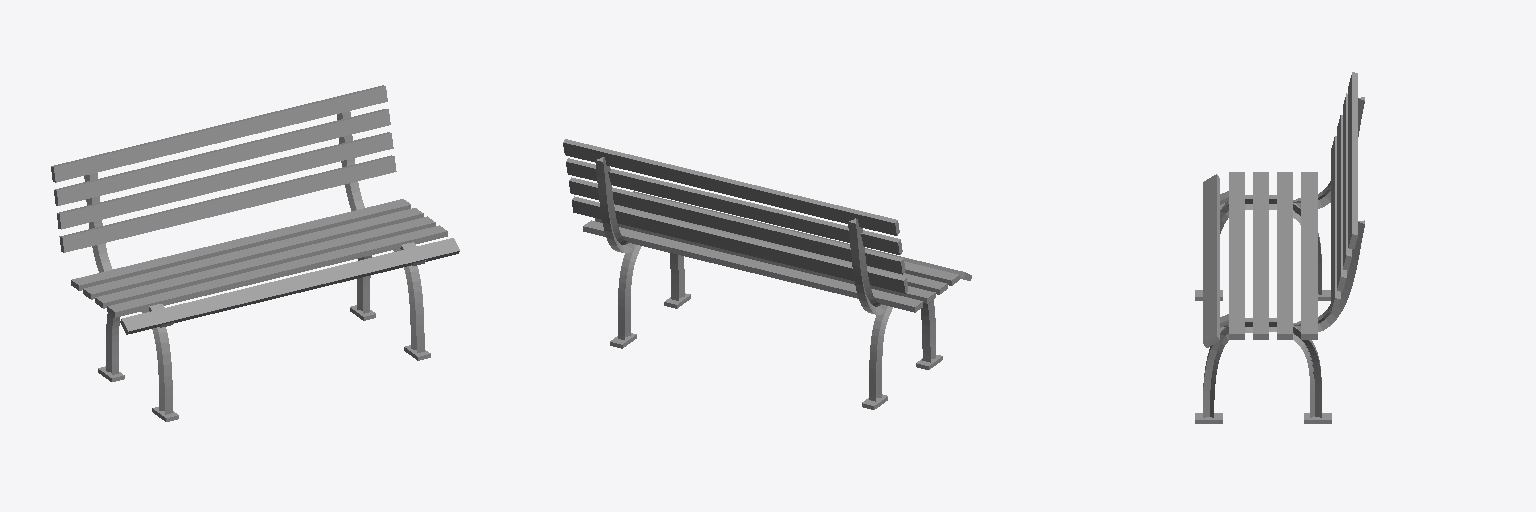
File: bank.obj
The picture shows the model from 3 angles: view 1: azimuth 30°, elevation 25°; view 2: azimuth 150°, elevation 25°; view 3: azimuth 270°, elevation 25°; orthographic projection.
Parts seen in each view (by area): view 1: Cube.001_Cube.002, Cube.002_Cube.000; view 2: Cube.001_Cube.002, Cube.002_Cube.000; view 3: Cube.001_Cube.002, Cube.002_Cube.000.
Boxes of the visible parts, box(x1,y1,x2,y2) form: Cube.001_Cube.002: box(51, 85, 459, 334); Cube.002_Cube.000: box(84, 111, 430, 421); Cube.001_Cube.002: box(563, 139, 971, 312); Cube.002_Cube.000: box(595, 157, 942, 409); Cube.001_Cube.002: box(1203, 72, 1357, 347); Cube.002_Cube.000: box(1195, 97, 1364, 423).
Bounding box in the file's own units: 1.79 × 1.06 × 0.7952.